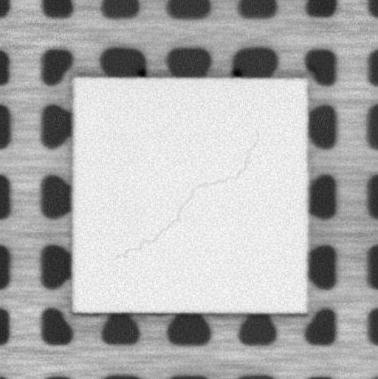DIE_CRACK: (114, 130, 260, 260)
